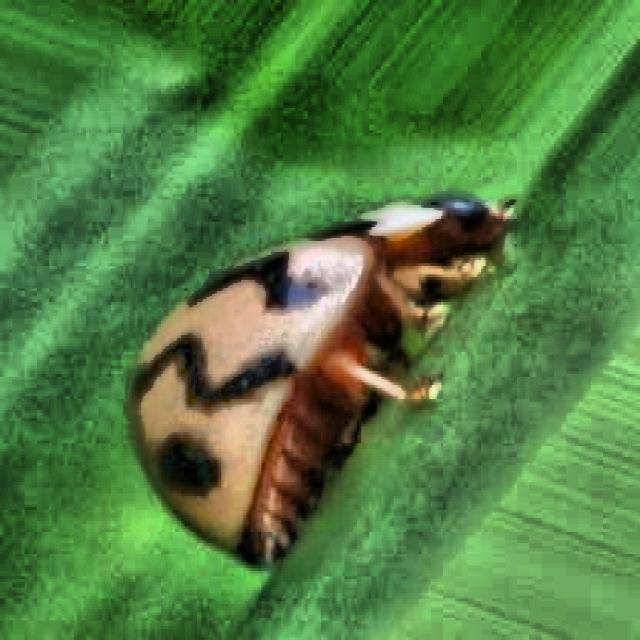Asian-Lady-beetle: (103, 140, 538, 588)
